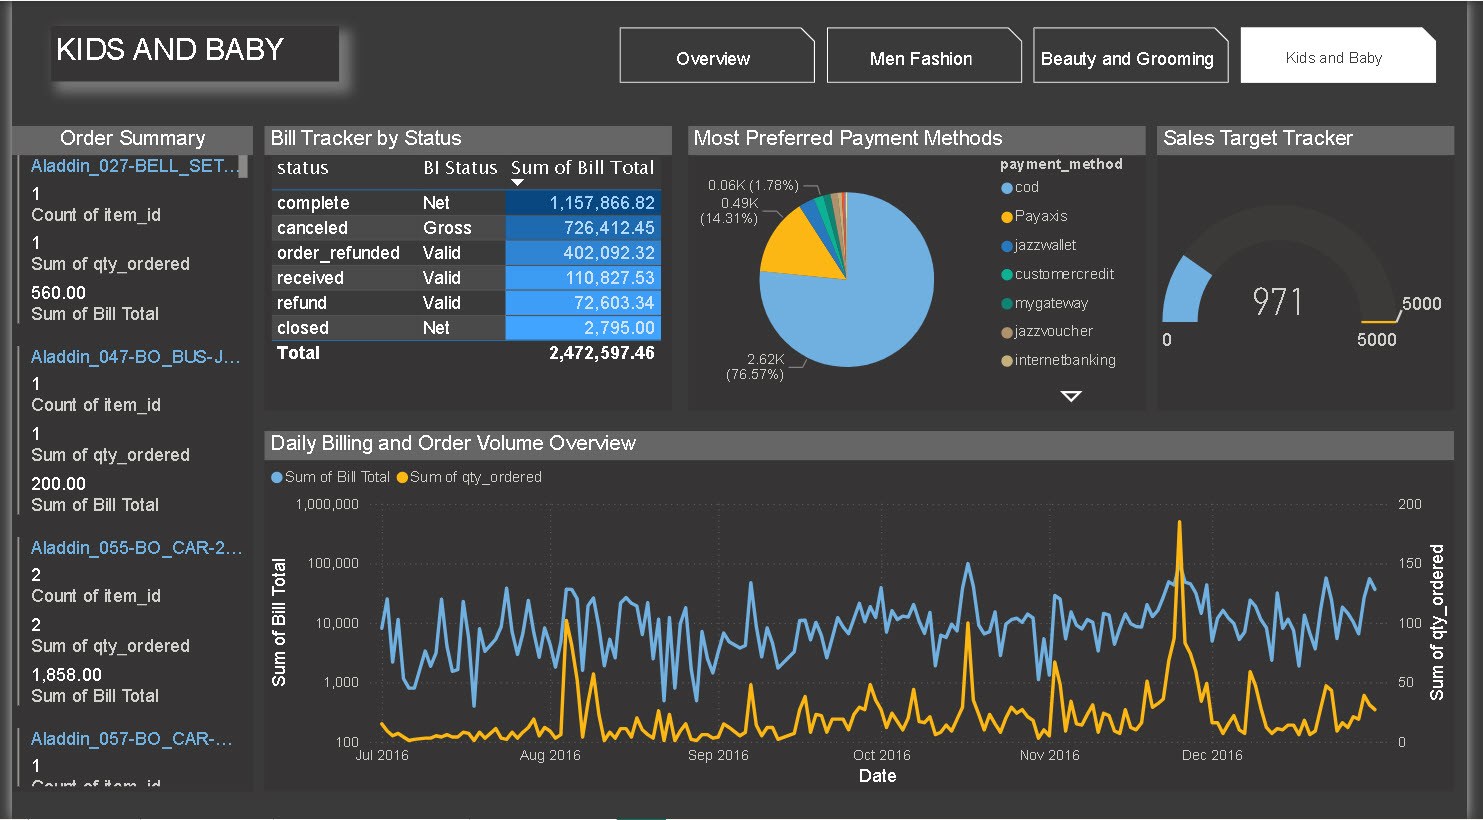

The dashboard page shown, as its layout file describes it:
{"tool":"powerbi","page":{"name":"Kids and Baby","canvas":[1280,720],"ordinal":3},"visuals":[{"type":"pageNavigator","box":[534.5,22.9,720.2,49.5],"z":0},{"type":"textbox","box":[33.7,22.1,253.5,48.8],"z":1000},{"type":"lineChart","title":"Daily Billing and Order Volume Overview","fields":{"Category":["Calender.Date"],"Y":["Sum(Pakistan Largest Ecommerce Dataset.Bill Total)"],"Y2":["Sum(Pakistan Largest Ecommerce Dataset.qty_ordered)"]},"box":[222.6,378.6,1046.4,316.7],"z":3000},{"type":"pieChart","title":"Most Preferred Payment Methods","fields":{"Category":["Pakistan Largest Ecommerce Dataset.payment_method"],"Y":["CountNonNull(Pakistan Largest Ecommerce Dataset.payment_method)"]},"box":[595.2,109.5,402.4,250],"z":4000},{"type":"multiRowCard","title":"Order Summary","fields":{"Values":["Pakistan Largest Ecommerce Dataset.sku","Count(Pakistan Largest Ecommerce Dataset.item_id)","Sum(Pakistan Largest Ecommerce Dataset.qty_ordered)","Sum(Pakistan Largest Ecommerce Dataset.Bill Total)"]},"box":[0,109.5,211.9,585.7],"z":5000},{"type":"gauge","title":" Sales Target Tracker","fields":{"Y":["Pakistan Largest Ecommerce Dataset.Proucts Sold"],"MaxValue":["Pakistan Largest Ecommerce Dataset.Target Sale"],"TargetValue":["Pakistan Largest Ecommerce Dataset.Target Sale"]},"box":[1007.1,109.5,261.9,250],"z":6000},{"type":"tableEx","title":"Bill Tracker by Status","fields":{"Values":["Pakistan Largest Ecommerce Dataset.status","Pakistan Largest Ecommerce Dataset.BI Status","Sum(Pakistan Largest Ecommerce Dataset.Bill Total)"]},"box":[222.6,109.5,358.3,250],"z":7000}]}

Visuals, with their boxes in screenshot pixels (x1, y1, x2, y2), scaled from the page's 1280x720 canvas onto the 1483x820 screenshot:
pageNavigator: box(619, 26, 1454, 82)
textbox: box(39, 25, 333, 81)
"Daily Billing and Order Volume Overview" lineChart: box(258, 431, 1470, 792)
"Most Preferred Payment Methods" pieChart: box(690, 125, 1156, 409)
"Order Summary" multiRowCard: box(0, 125, 246, 792)
" Sales Target Tracker" gauge: box(1167, 125, 1470, 409)
"Bill Tracker by Status" tableEx: box(258, 125, 673, 409)
